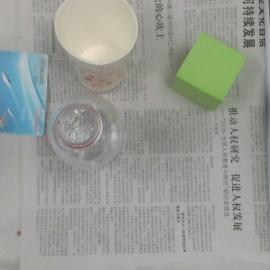bottle: (50, 94, 124, 171)
card: (1, 49, 49, 138)
cup: (54, 1, 138, 95)
